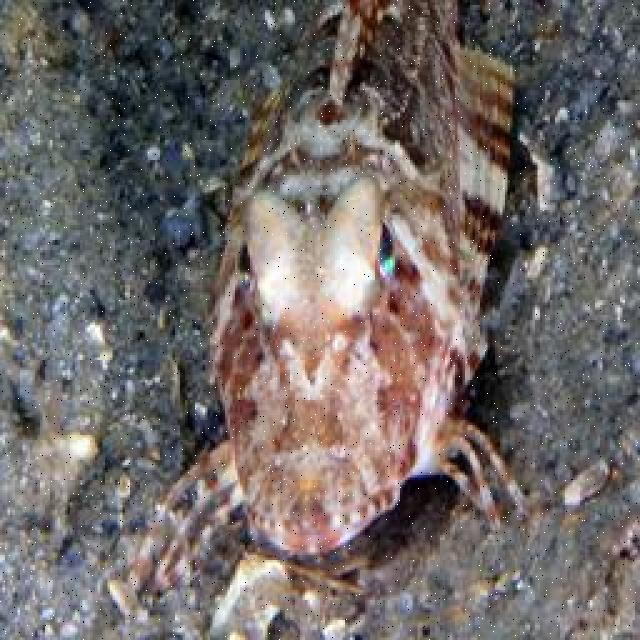fish: (123, 1, 533, 602)
